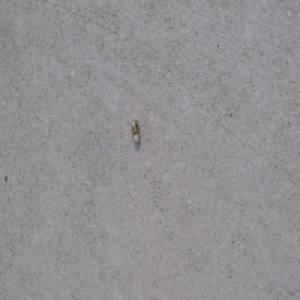BoltNutSet: (130, 120, 141, 144)
